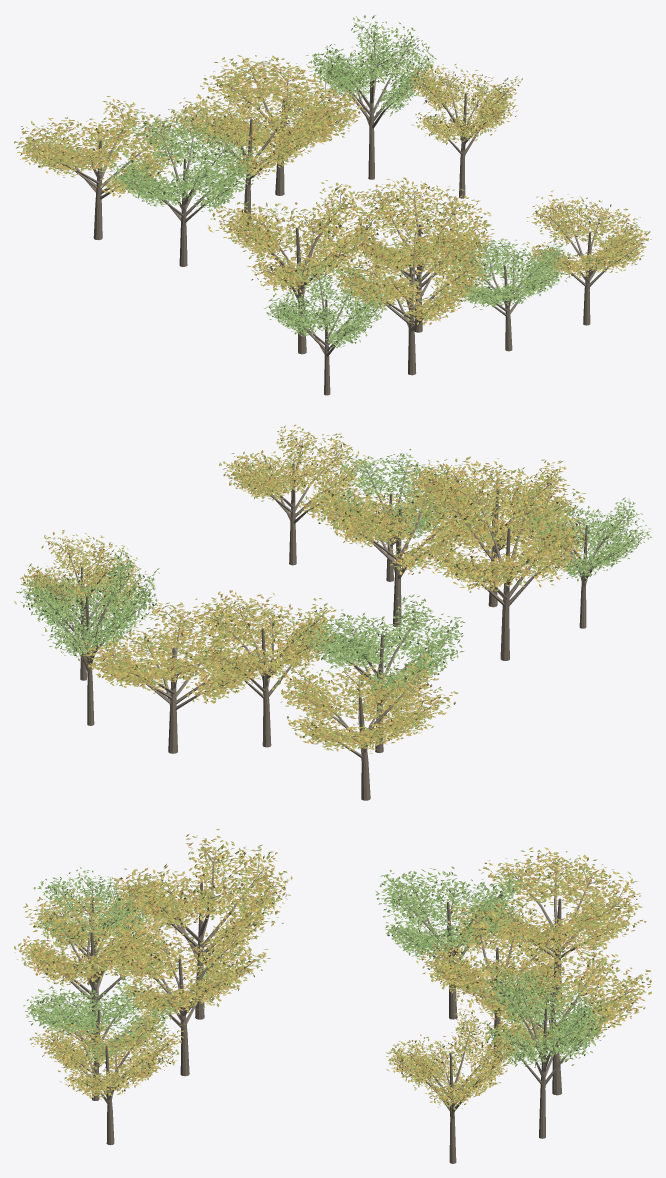
Rendered from 20261103-campus-planting-south-rear.glb.
3 views of the same model, one above another, from view 1: azimuth 30°, elevation 25°; view 2: azimuth 150°, elevation 25°; view 3: azimuth 270°, elevation 25° (orthographic). The views are drawn at different scales.
Visible parts, largest first — view 1: Tree foliage 72 shade 2, Tree foliage 72 shade 0, Tree foliage 72 shade 3, Tree foliage 72 shade 1, Tree foliage 63 shade 2, Tree foliage 63 shade 0, Tree foliage 63 shade 3, Tree foliage 53 shade 2, Tree foliage 53 shade 3, Tree foliage 53 shade 0, Tree foliage 53 shade 1, Tree foliage 63 shade 1 (+48 smaller); view 2: Tree foliage 72 shade 2, Tree foliage 72 shade 0, Tree foliage 72 shade 1, Tree foliage 72 shade 3, Tree foliage 79 shade 2, Tree foliage 79 shade 3, Tree foliage 79 shade 1, Tree foliage 79 shade 0, Tree foliage 54 shade 0, Tree foliage 54 shade 1, Tree foliage 54 shade 2, Tree foliage 54 shade 3 (+47 smaller); view 3: Tree foliage 72 shade 3, Tree foliage 72 shade 2, Tree foliage 72 shade 1, Tree foliage 72 shade 0, Tree foliage 79 shade 3, Tree foliage 42 shade 3, Tree foliage 42 shade 2, Tree foliage 42 shade 1, Tree foliage 79 shade 2, Tree foliage 42 shade 0, Tree foliage 79 shade 0, Tree foliage 67 shade 0 (+47 smaller).
Boxes of the visible parts, bbox=[...] form: Tree foliage 72 shade 2: bbox=[212, 184, 388, 290]; Tree foliage 72 shade 0: bbox=[208, 182, 384, 294]; Tree foliage 72 shade 3: bbox=[214, 180, 383, 293]; Tree foliage 72 shade 1: bbox=[208, 185, 388, 295]; Tree foliage 63 shade 2: bbox=[327, 217, 485, 321]; Tree foliage 63 shade 0: bbox=[335, 223, 489, 322]; Tree foliage 63 shade 3: bbox=[332, 215, 491, 324]; Tree foliage 53 shade 2: bbox=[110, 107, 253, 210]; Tree foliage 53 shade 3: bbox=[110, 109, 256, 209]; Tree foliage 53 shade 0: bbox=[109, 110, 255, 211]; Tree foliage 53 shade 1: bbox=[113, 117, 255, 212]; Tree foliage 63 shade 1: bbox=[334, 222, 490, 325]; Tree foliage 72 shade 2: bbox=[429, 479, 586, 592]; Tree foliage 72 shade 0: bbox=[426, 479, 585, 590]; Tree foliage 72 shade 1: bbox=[428, 480, 585, 590]; Tree foliage 72 shade 3: bbox=[427, 481, 586, 591]; Tree foliage 79 shade 2: bbox=[281, 653, 452, 751]; Tree foliage 79 shade 3: bbox=[280, 657, 452, 751]; Tree foliage 79 shade 1: bbox=[271, 661, 457, 753]; Tree foliage 79 shade 0: bbox=[275, 653, 458, 750]; Tree foliage 54 shade 0: bbox=[80, 604, 269, 703]; Tree foliage 54 shade 1: bbox=[79, 602, 266, 702]; Tree foliage 54 shade 2: bbox=[83, 600, 262, 703]; Tree foliage 54 shade 3: bbox=[84, 602, 264, 701]; Tree foliage 72 shade 3: bbox=[114, 829, 291, 952]; Tree foliage 72 shade 2: bbox=[113, 834, 287, 946]; Tree foliage 72 shade 1: bbox=[115, 835, 292, 951]; Tree foliage 72 shade 0: bbox=[114, 835, 285, 949]; Tree foliage 79 shade 3: bbox=[476, 851, 646, 950]; Tree foliage 42 shade 3: bbox=[102, 918, 268, 1016]; Tree foliage 42 shade 2: bbox=[106, 925, 270, 1014]; Tree foliage 42 shade 1: bbox=[99, 922, 265, 1019]; Tree foliage 79 shade 2: bbox=[478, 847, 640, 950]; Tree foliage 42 shade 0: bbox=[99, 919, 263, 1020]; Tree foliage 79 shade 0: bbox=[481, 850, 636, 952]; Tree foliage 67 shade 0: bbox=[427, 899, 574, 999].
Bounding box in the file's own units: 36.33 × 11.7 × 42.85.
